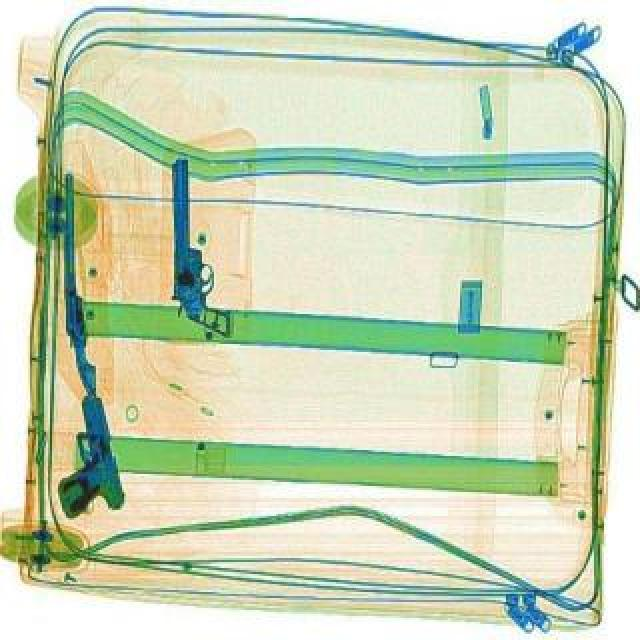gun: (34, 390, 130, 520), (164, 154, 232, 336), (46, 168, 98, 392)
